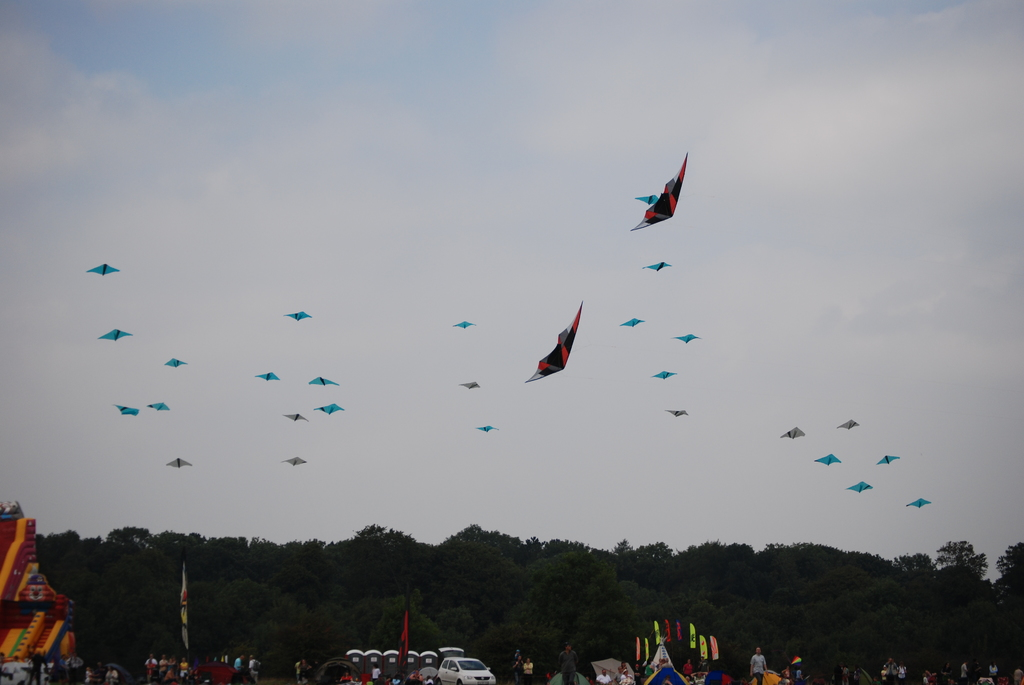kite: (525, 299, 591, 387), (628, 147, 698, 229), (96, 324, 135, 346), (662, 400, 695, 424), (807, 453, 848, 471), (81, 261, 119, 279), (111, 400, 144, 420), (618, 310, 644, 331), (303, 373, 339, 388), (903, 497, 941, 511), (777, 424, 808, 441), (254, 366, 283, 384), (146, 397, 174, 415), (164, 453, 190, 472), (874, 453, 902, 470), (286, 309, 314, 324), (671, 332, 701, 346), (648, 367, 678, 381), (848, 481, 878, 494), (281, 408, 304, 424), (316, 402, 344, 415), (643, 261, 675, 272), (159, 353, 182, 368), (838, 416, 865, 428), (460, 378, 481, 393), (446, 320, 471, 330), (282, 456, 309, 465), (478, 420, 493, 435)
